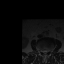CCS_normal: (44, 48, 46, 55)
LFS_stenosis: (48, 48, 49, 53)
LLS_normal: (46, 48, 47, 54)
RFS_normal: (40, 48, 42, 53)
RLS_normal: (42, 48, 44, 53)
